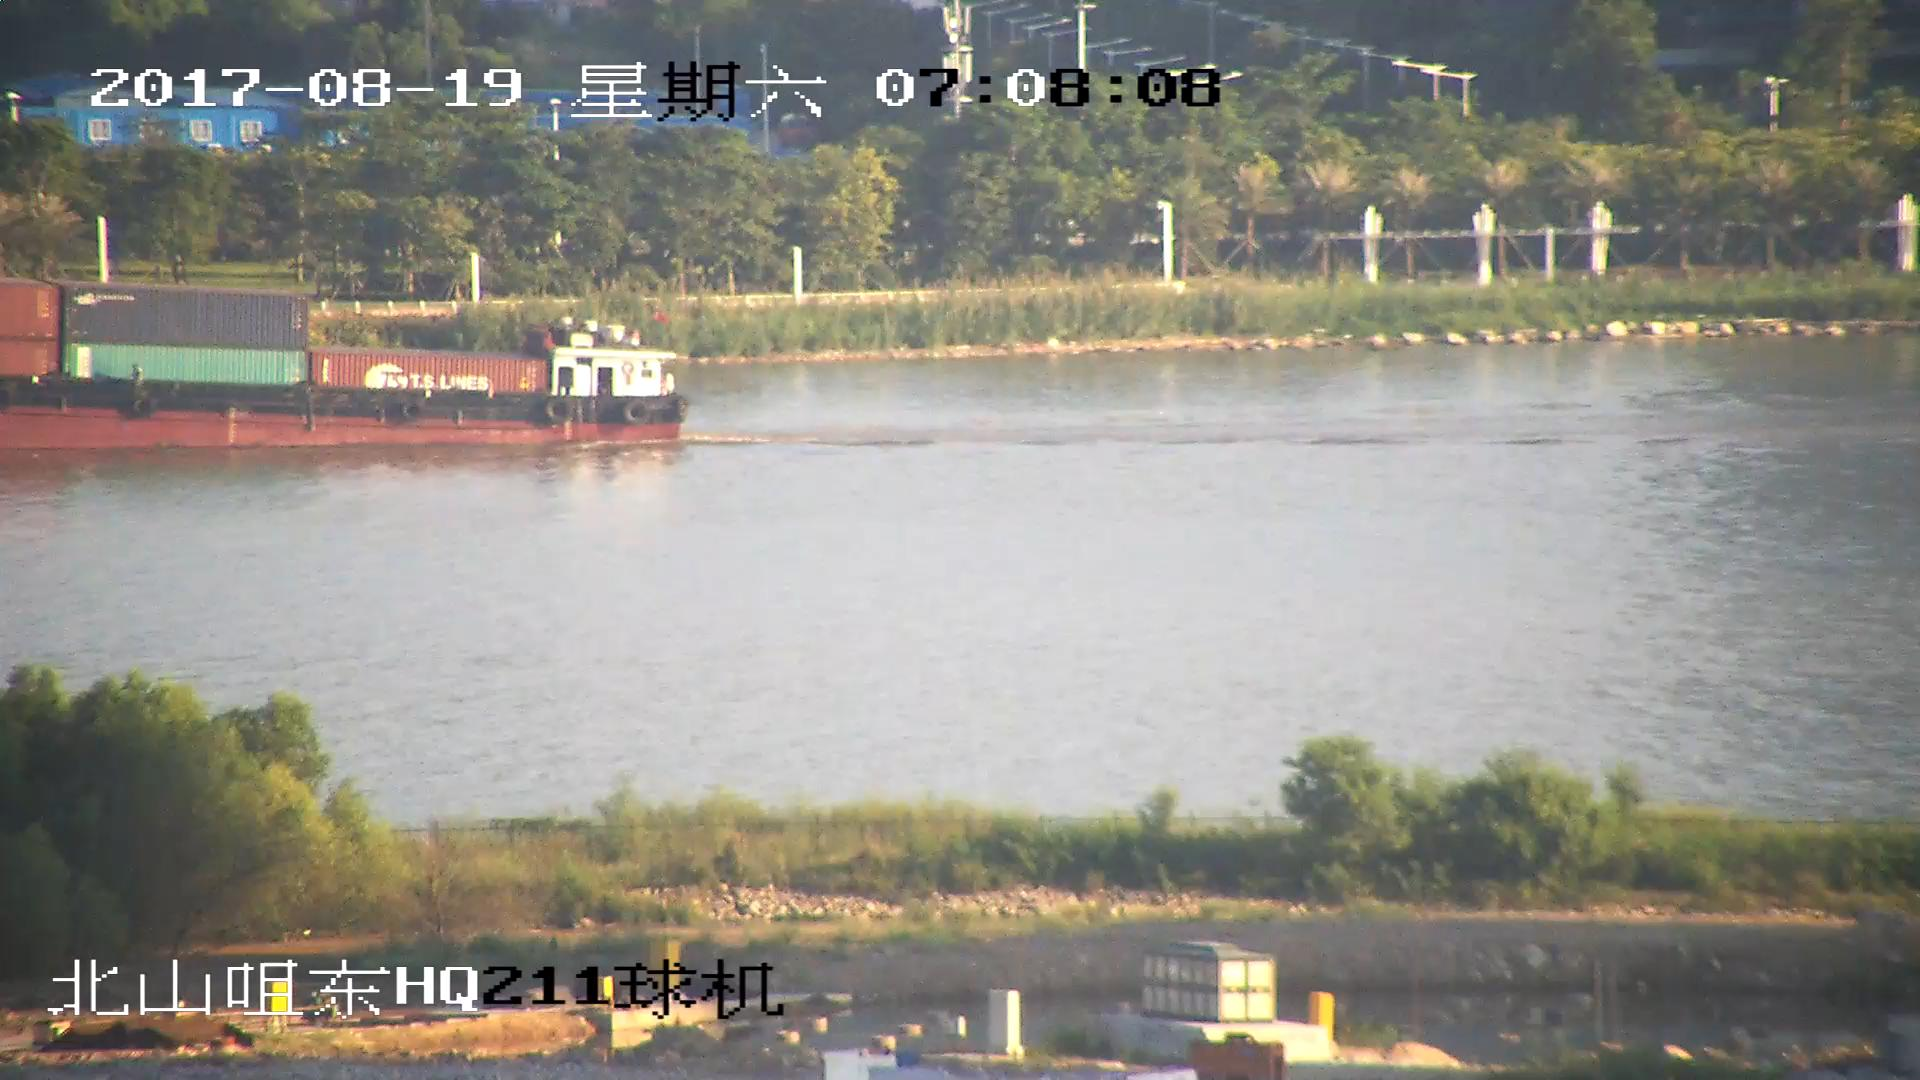container ship: (1, 275, 686, 456)
